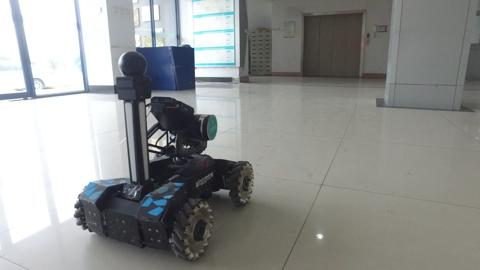chariot: (61, 49, 268, 263)
